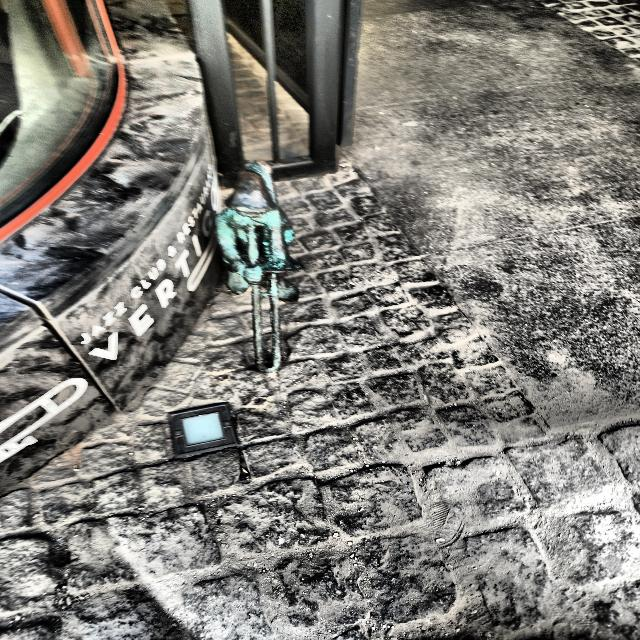Vertigus: (215, 161, 302, 372)
